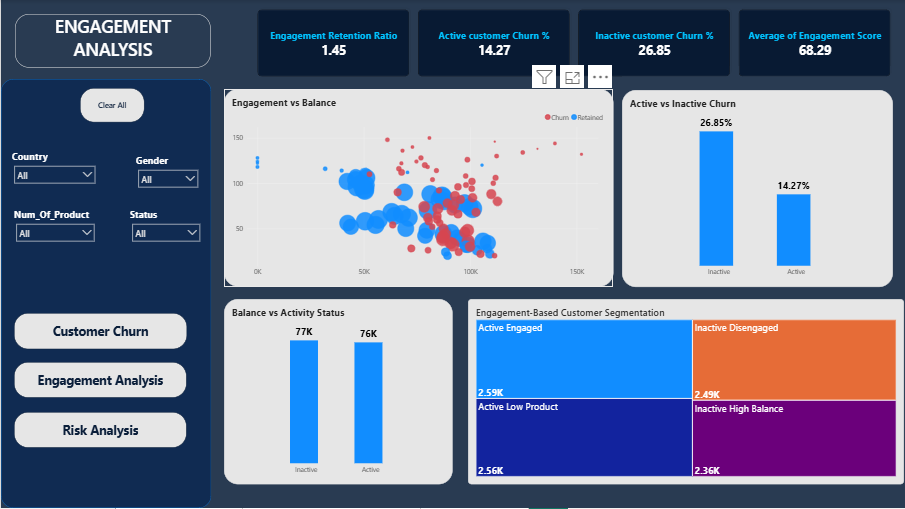

Layout of this report page (visuals, bound fields, positions):
{"tool":"powerbi","page":{"name":"ENGAGEMENT ANALYSIS","canvas":[1920,1080],"ordinal":1},"visuals":[{"type":"cardVisual","fields":{"Data":["KPI'S.Engagement Retention Ratio","KPI'S.Active customer Churn %","KPI'S.Inactive customer Churn %","Avg(European_Bank.Engagement Score)"]},"box":[539.3,14.5,1357.2,153.8],"z":0},{"type":"clusteredColumnChart","title":"Active vs Inactive Churn","fields":{"Y":["KPI'S.Churn Rate %"],"Category":["European_Bank.Member_Active_Status"]},"box":[1319.7,191.5,576.3,418.6],"z":1000},{"type":"scatterChart","title":"Engagement vs Balance","fields":{"X":["Avg(European_Bank.Balance)"],"Y":["European_Bank.Engagement Score"],"Series":["European_Bank.Customer Status"],"Size":["Sum(European_Bank.EstimatedSalary)"]},"box":[473.1,189.6,827.8,420.5],"z":2000},{"type":"clusteredColumnChart","title":"Balance vs Activity Status","fields":{"Category":["European_Bank.Member_Active_Status"],"Y":["Avg(European_Bank.Balance)"]},"box":[473.1,636.4,486.2,394.2],"z":3000},{"type":"treemap","title":"Engagement-Based Customer Segmentation","fields":{"Values":["CountNonNull(European_Bank.CustomerId)"],"Group":["European_Bank.Engagement Segment"]},"box":[993,636.4,927.3,394.2],"z":4000},{"type":"shape","box":[0,168.3,447,912.1],"z":5000},{"type":"actionButton","box":[28.2,664.5,367.9,77],"z":6000},{"type":"actionButton","box":[28.3,769.3,367,76],"z":7000},{"type":"actionButton","box":[28.3,875.1,367,76],"z":8000},{"type":"textbox","box":[30.8,29,416.2,114],"z":9000},{"type":"slicer","title":"Status","fields":{"Values":["European_Bank.Member_Active_Status"]},"box":[274.1,441.1,153.9,144.5],"z":10000},{"type":"slicer","title":"Country","fields":{"Values":["European_Bank.Geography"]},"box":[22.5,319.1,182.1,122],"z":11000},{"type":"slicer","title":"Gender","fields":{"Values":["European_Bank.Gender"]},"box":[287.2,326.6,137,108.9],"z":12000},{"type":"slicer","title":"Num_Of_Product","fields":{"Values":["European_Bank.NumOfProducts"]},"box":[28.2,441.1,176.5,144.5],"z":13000},{"type":"actionButton","box":[167.1,187.7,137,73.2],"z":14000}]}

Visuals, with their boxes in screenshot pixels (x1, y1, x2, y2), scaled from the page's 1920x1080 canvas onto the 905x509 screenshot:
cardVisual - KPI'S.Engagement Retention Ratio x KPI'S.Active customer Churn %: l=254, t=7, r=894, b=79
"Active vs Inactive Churn" clusteredColumnChart: l=622, t=90, r=894, b=288
"Engagement vs Balance" scatterChart: l=223, t=89, r=613, b=288
"Balance vs Activity Status" clusteredColumnChart: l=223, t=300, r=452, b=486
"Engagement-Based Customer Segmentation" treemap: l=468, t=300, r=904, b=486
shape: l=0, t=79, r=211, b=508
actionButton: l=13, t=313, r=187, b=349
actionButton: l=13, t=363, r=186, b=398
actionButton: l=13, t=412, r=186, b=448
textbox: l=15, t=14, r=211, b=67
"Status" slicer: l=129, t=208, r=202, b=276
"Country" slicer: l=11, t=150, r=96, b=208
"Gender" slicer: l=135, t=154, r=200, b=205
"Num_Of_Product" slicer: l=13, t=208, r=96, b=276
actionButton: l=79, t=88, r=143, b=123
